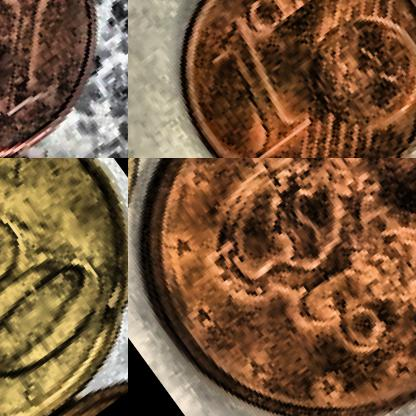coin: (128, 158, 415, 415), (128, 0, 415, 157), (0, 158, 127, 415), (0, 0, 127, 157)
